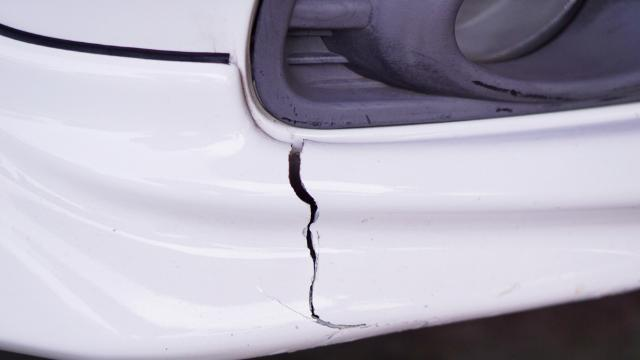crack: (287, 139, 366, 331)
